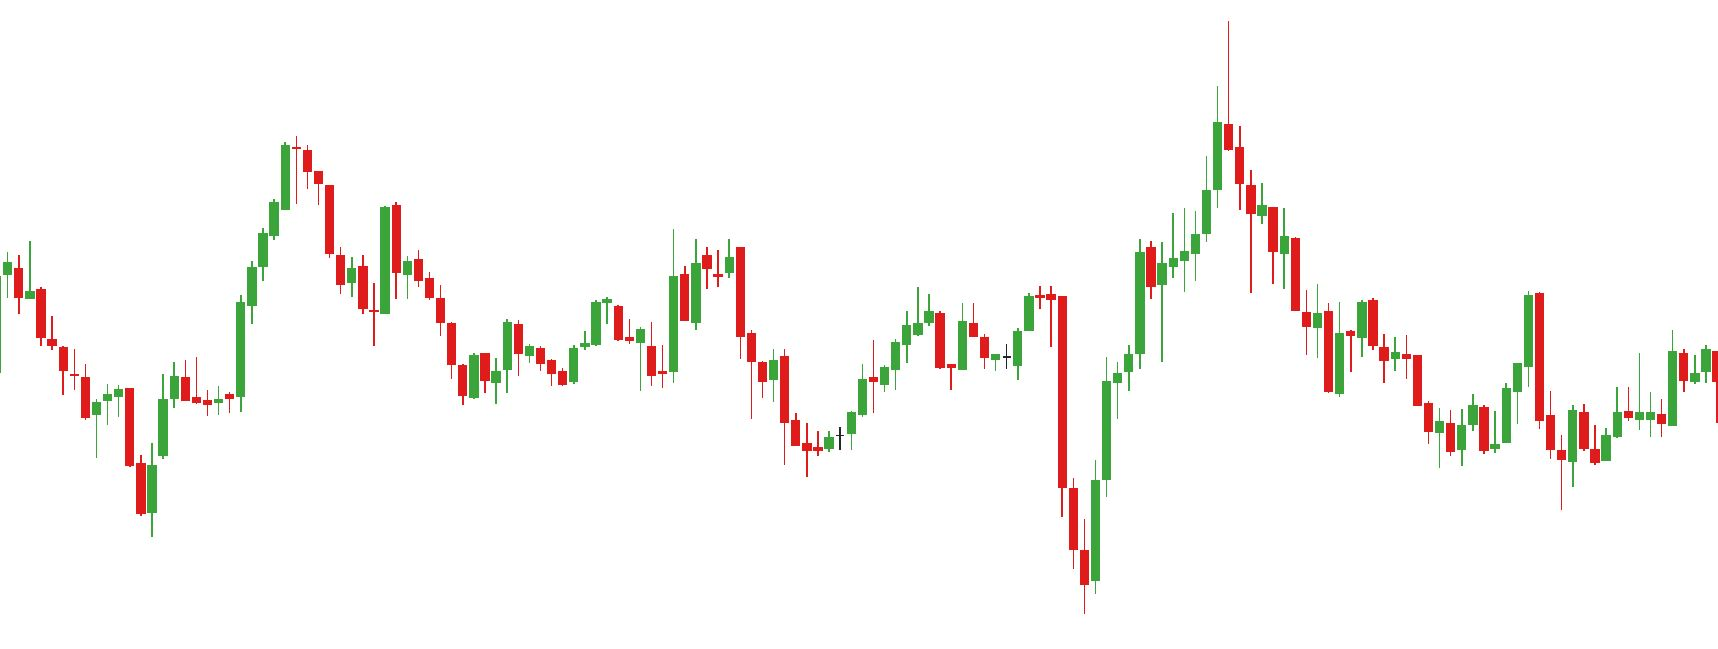buy: (1435, 389, 1579, 511)
